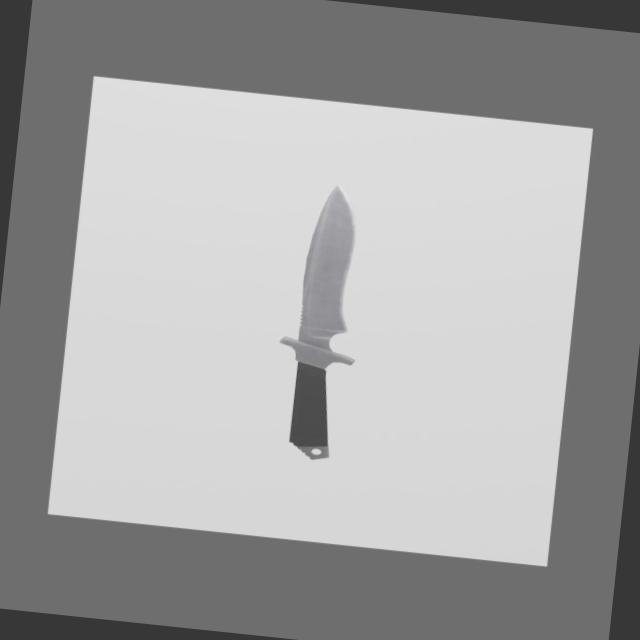knife: (287, 360, 338, 460)
